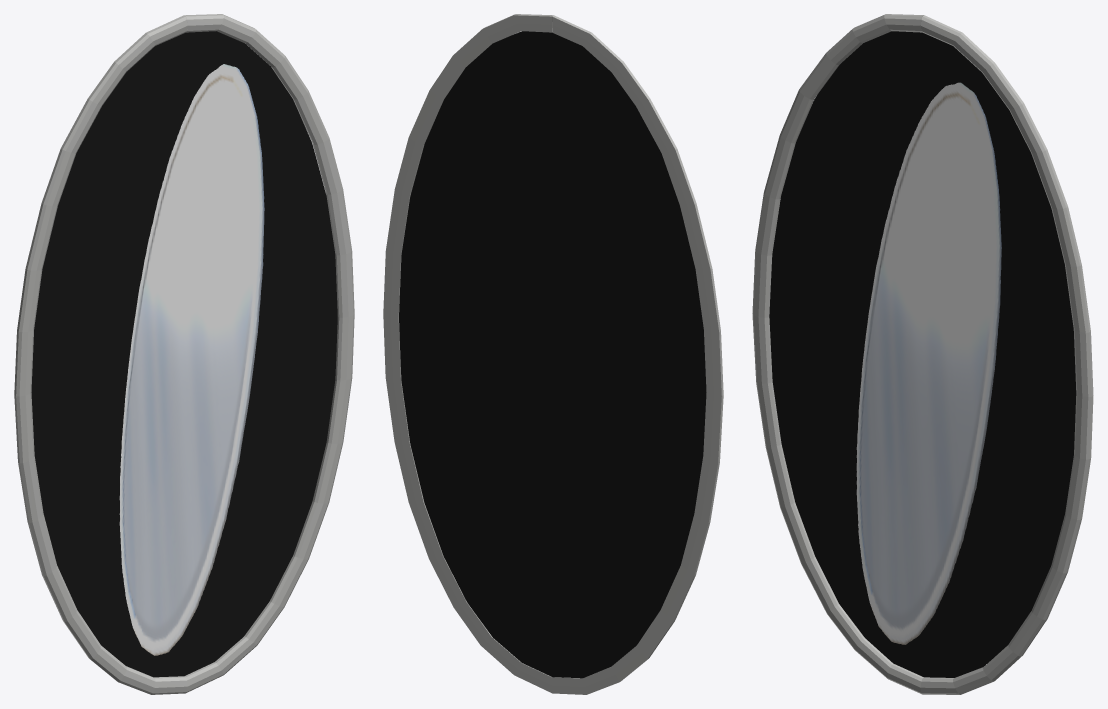
The model's file is ovalMirror.obj.
3 views of the same model, side by side, from view 1: azimuth 30°, elevation 25°; view 2: azimuth 150°, elevation 25°; view 3: azimuth 330°, elevation 25° (orthographic).
Visible parts, largest first — view 1: Fond, sweethome3d_window_mirror, Tube; view 2: Fond, Tube; view 3: Fond, sweethome3d_window_mirror, Tube.
Boxes of the visible parts, x1,y1,x2,y2 form: Fond: (31,31,337,677); sweethome3d_window_mirror: (119,64,264,655); Tube: (14,14,354,694); Fond: (399,31,706,678); Tube: (383,14,723,694); Fond: (769,31,1076,677); sweethome3d_window_mirror: (856,82,1001,644); Tube: (752,14,1093,694).
Bounding box in the file's own units: 54.9 × 105 × 0.9989.
